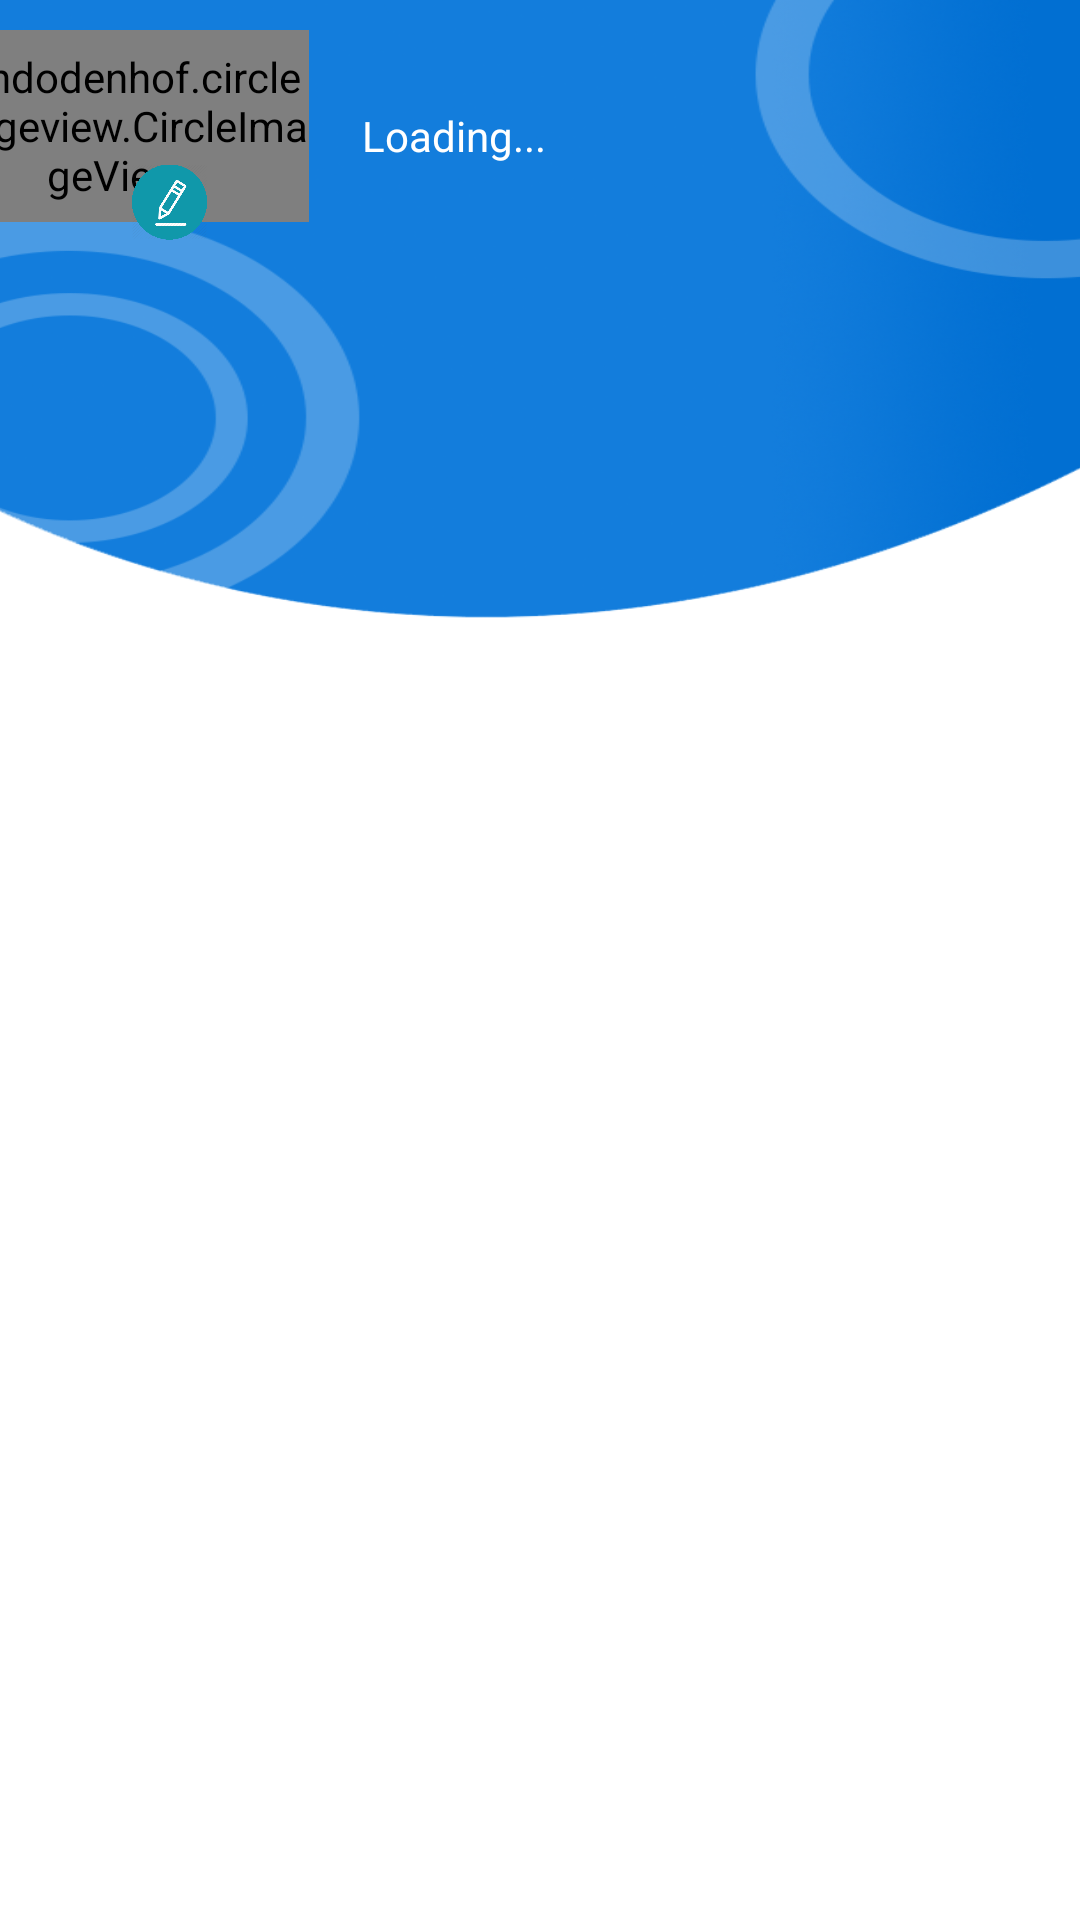

Named icons in this screenshot (1080px x 1920px) and their centers, [x,y]:
edit: [169,203]
